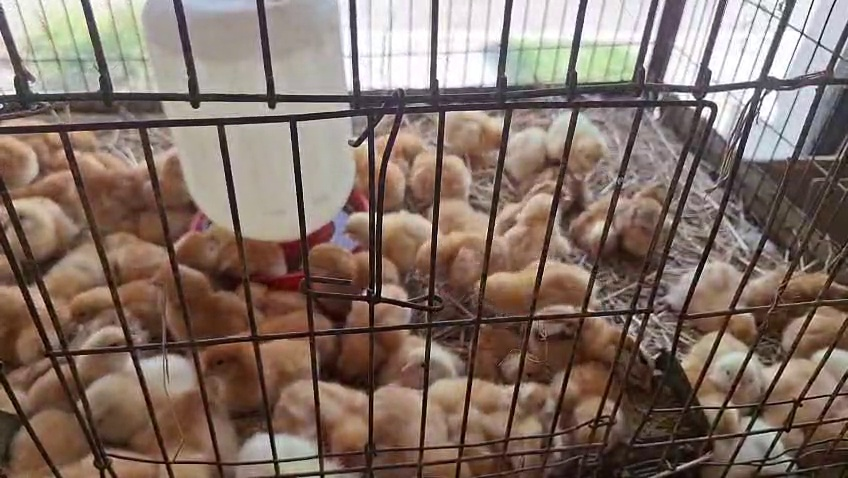Pollo: (353, 357, 459, 461), (76, 355, 199, 437), (200, 325, 312, 410), (712, 380, 809, 478), (157, 334, 221, 477), (472, 256, 598, 327), (421, 348, 500, 459), (171, 210, 294, 281), (230, 414, 360, 478), (664, 255, 765, 333), (339, 266, 408, 379), (267, 361, 376, 432), (484, 191, 575, 275), (544, 353, 630, 439), (150, 267, 259, 333), (9, 388, 88, 478), (478, 353, 551, 445), (413, 225, 524, 285), (335, 203, 441, 265), (766, 356, 842, 442), (47, 228, 149, 291), (296, 228, 398, 291), (746, 251, 846, 315), (106, 138, 200, 205), (682, 323, 761, 402), (96, 205, 172, 285), (757, 270, 848, 334), (0, 189, 77, 263), (74, 425, 179, 477), (484, 313, 569, 373), (410, 187, 485, 251), (612, 185, 682, 252), (3, 278, 63, 355), (524, 306, 620, 354), (780, 321, 847, 387), (426, 102, 504, 157), (571, 184, 636, 249), (398, 127, 463, 190), (70, 156, 136, 217), (273, 292, 339, 346), (352, 138, 406, 204), (544, 103, 602, 164), (385, 326, 454, 376), (62, 277, 138, 320), (35, 102, 96, 154), (22, 351, 97, 392), (504, 108, 546, 177), (69, 326, 144, 364), (520, 154, 579, 199), (0, 137, 42, 191), (490, 449, 549, 477), (490, 185, 580, 202)
